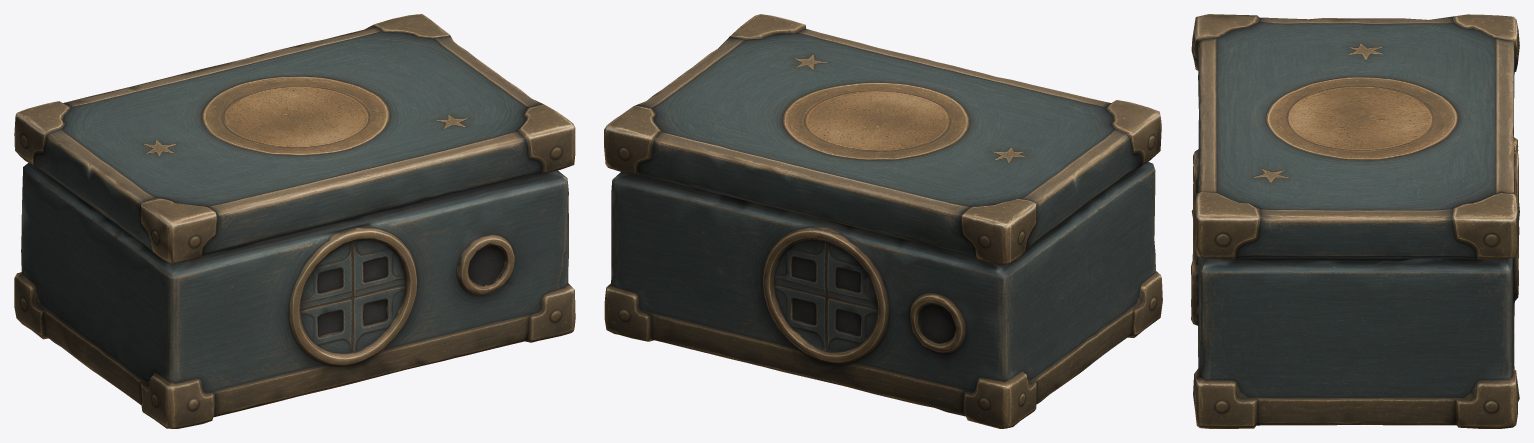
The model's file is Prop_TreasureBox.fbx.
3 views of the same model, side by side, from view 1: azimuth 30°, elevation 25°; view 2: azimuth 150°, elevation 25°; view 3: azimuth 270°, elevation 25° (orthographic). The views are drawn at different scales.
Visible parts, largest first — view 1: texture_mapping; view 2: texture_mapping; view 3: texture_mapping.
Boxes of the visible parts, x1,y1,x2,y2 form: texture_mapping: [14, 14, 575, 428]; texture_mapping: [604, 14, 1162, 428]; texture_mapping: [1191, 14, 1519, 428].
Size of the model in its own units: 1 by 0.675 by 0.4922.
1 material, 1 textured.
